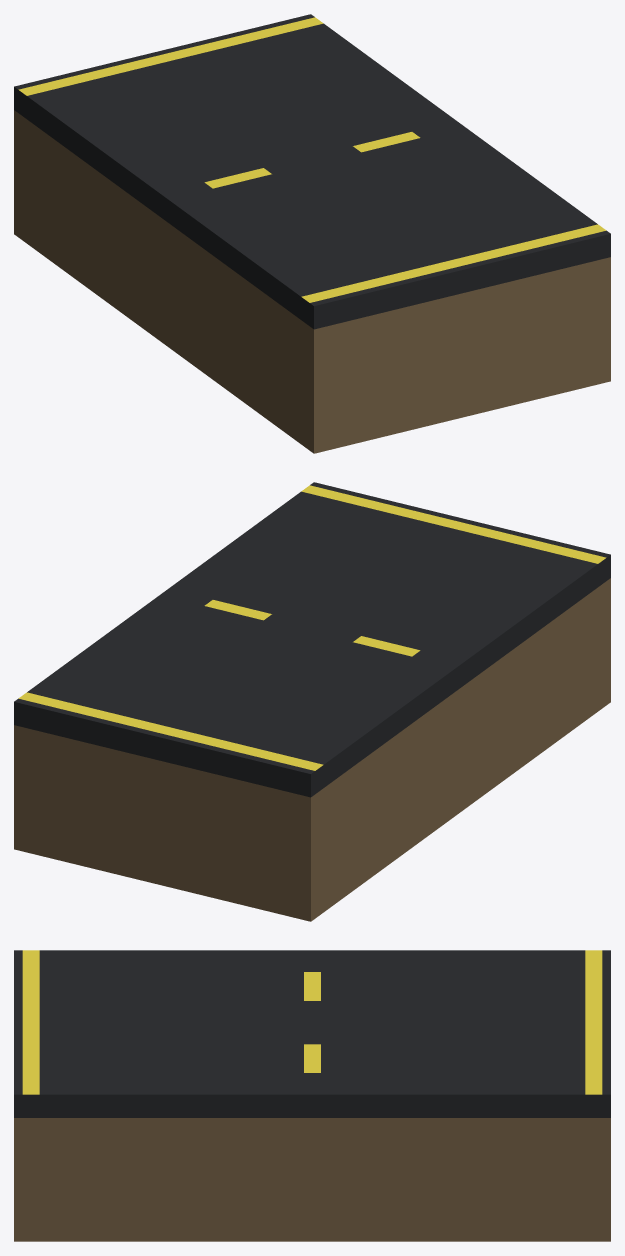
Rendered from Tile_Road_01.fbx.
3 renders of one model, top to bottom at view 1: azimuth 30°, elevation 25°; view 2: azimuth 150°, elevation 25°; view 3: azimuth 270°, elevation 25°, orthographic.
Visible parts, largest first — view 1: Cube.001; view 2: Cube.001; view 3: Cube.001.
Boxes of the visible parts, left/top/right/bottom form: Cube.001: left=14, top=14, right=610, bottom=453; Cube.001: left=14, top=482, right=610, bottom=921; Cube.001: left=14, top=950, right=610, bottom=1241.
Bounding box in the file's own units: 200 × 95.01 × 350.
